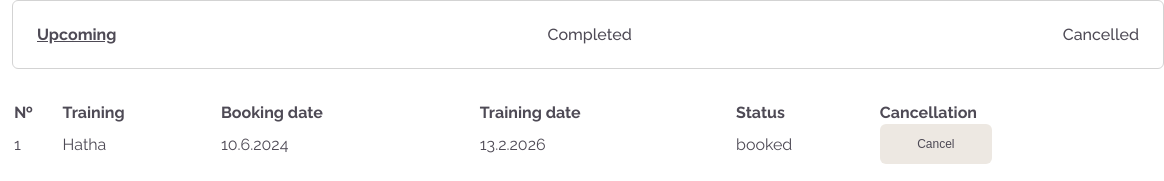
Bookings › renders correct rows for completed bookings
Click the list item "Completed" at (590, 34), box x1=548 y1=25 x2=632 y2=44
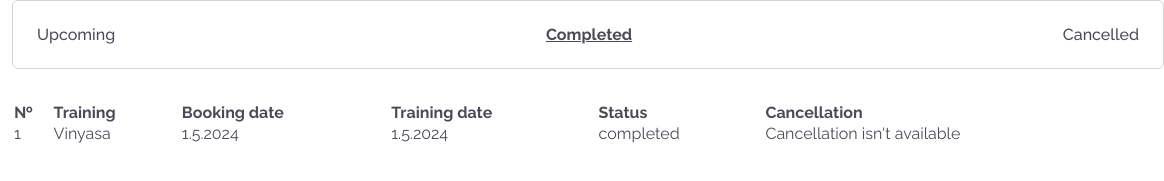
Expected: the row that starts with "Vinyasa" shows "completed", x1=599 y1=124 x2=680 y2=143
